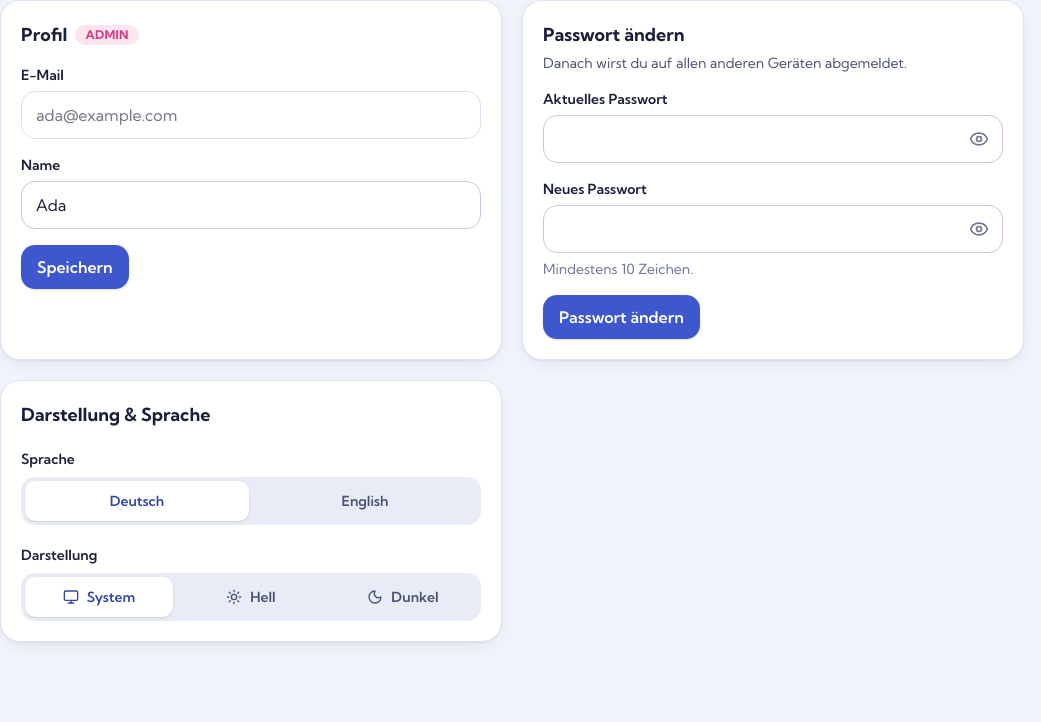
Test case: ProfileSettings › says when the current password is wrong and keeps what was typed
In the password field labelled "Aktuelles Passwort": (773, 139) [543,115,1003,163], type "nope"
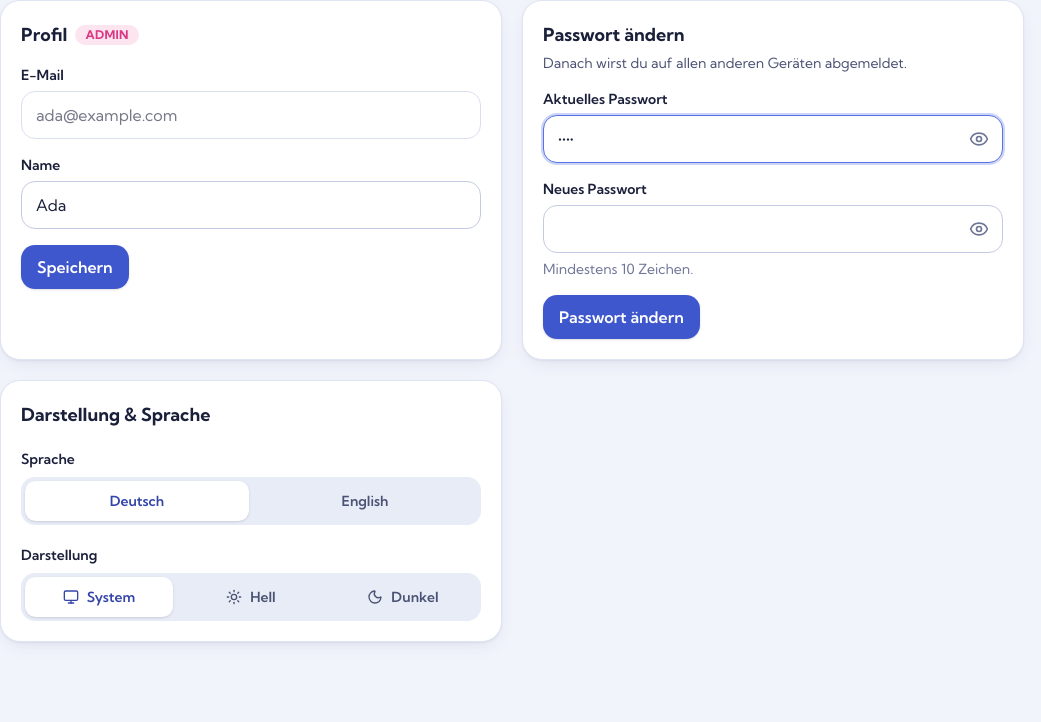
In the password field labelled "Neues Passwort": (773, 229) [543,205,1003,253], type "a brand new password"
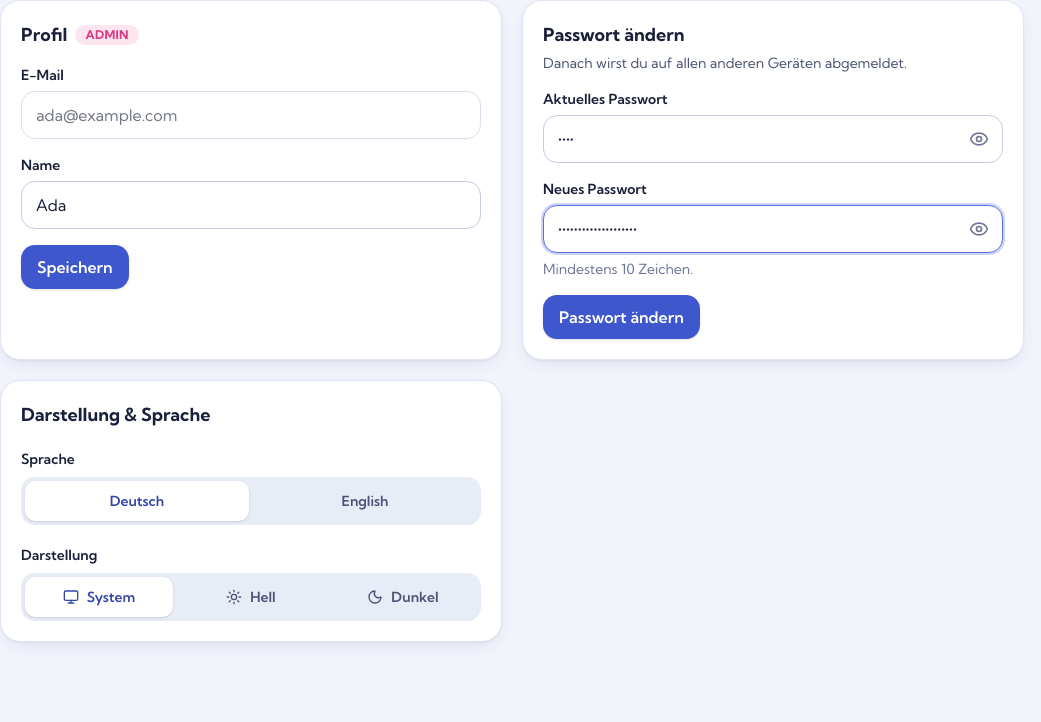
Click the button "Passwort ändern": (621, 317) [543,295,700,339]
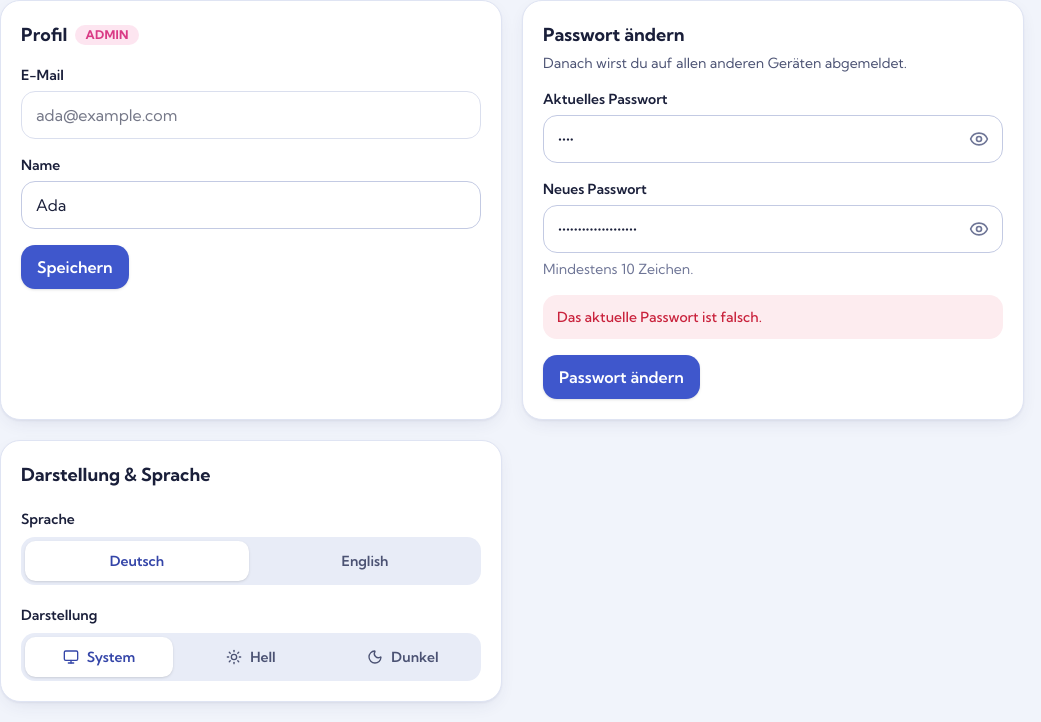
Check: the message reads "Das aktuelle Passwort ist falsch.", box [557,308,762,326]
